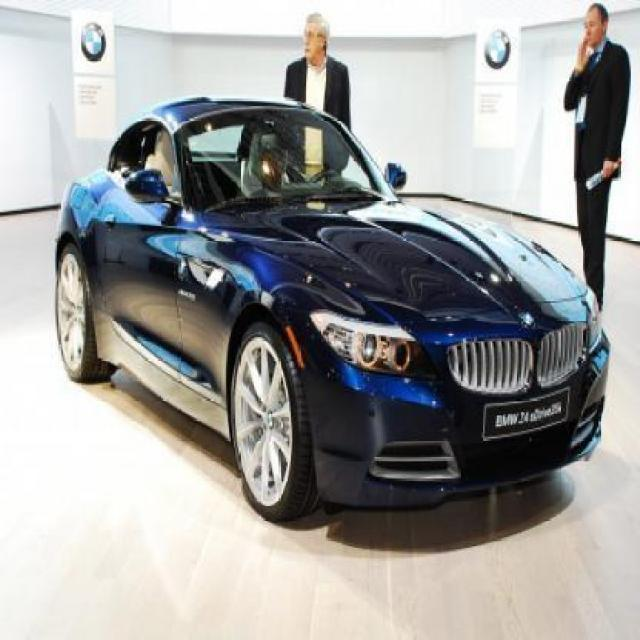vehicle: (45, 80, 614, 538)
